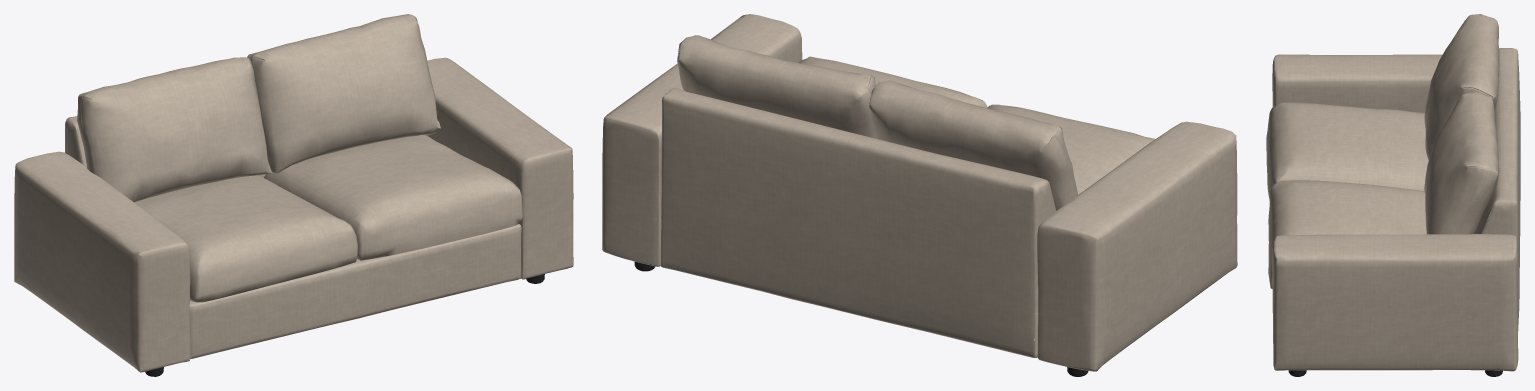
The model's file is vimle_sofa_2_osobowa_69400543.glb.
The picture shows the model from 3 angles, left to right: view 1: azimuth 30°, elevation 25°; view 2: azimuth 150°, elevation 25°; view 3: azimuth 270°, elevation 25°; orthographic projection. The views are drawn at different scales.
Visible parts, largest first — view 1: vimle_sofa_2_osobowa_69400543; view 2: vimle_sofa_2_osobowa_69400543; view 3: vimle_sofa_2_osobowa_69400543.
Boxes of the visible parts, left/top/right/bottom form: vimle_sofa_2_osobowa_69400543: left=14, top=14, right=573, bottom=376; vimle_sofa_2_osobowa_69400543: left=602, top=14, right=1237, bottom=376; vimle_sofa_2_osobowa_69400543: left=1266, top=14, right=1520, bottom=376.
Size of the model in its own units: 1.88 by 0.835 by 0.9767.
1 material, 1 textured.
